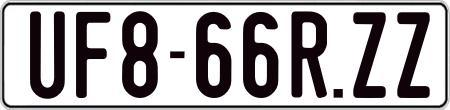6: (242, 12, 283, 103), (195, 11, 235, 102)
8: (121, 9, 158, 101)
F: (74, 10, 110, 101)
R: (288, 8, 325, 97)
U: (29, 9, 67, 103)
Z: (353, 9, 391, 99), (396, 9, 433, 98)
